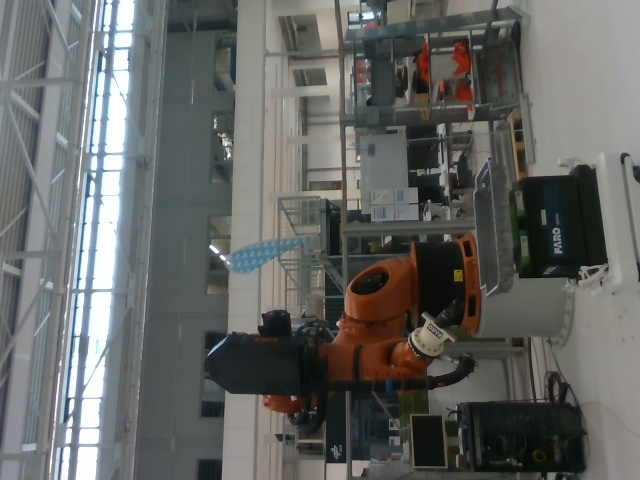Robot arm: (207, 231, 478, 428)
